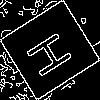H: (25, 24, 82, 80)
